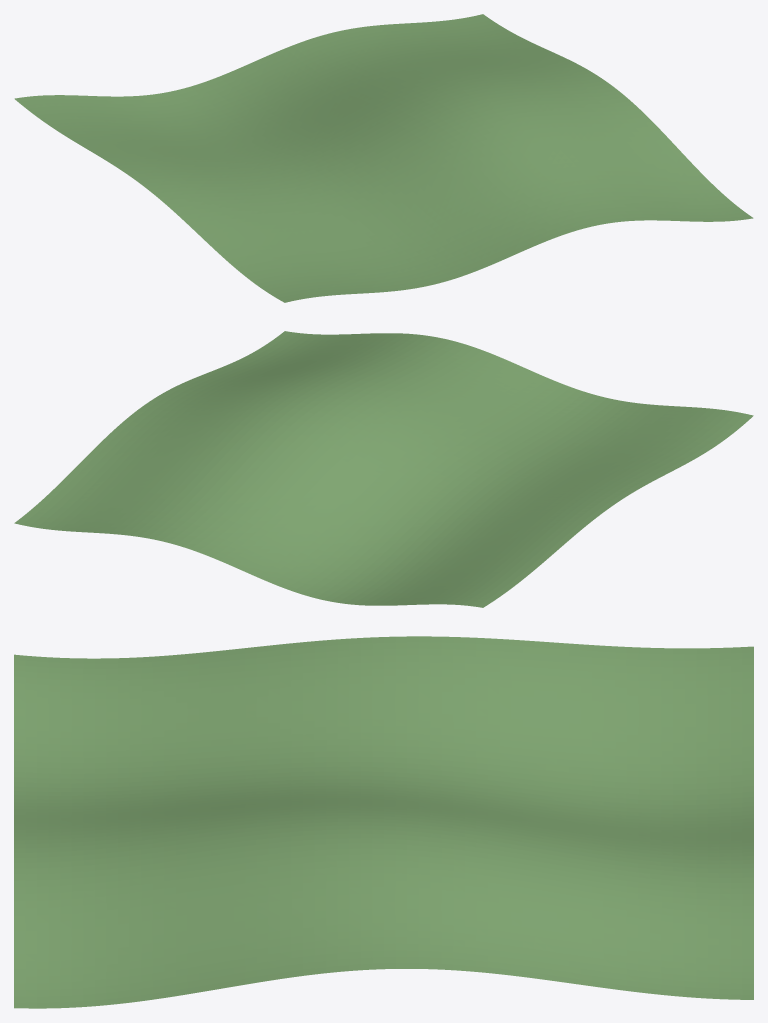
Rendered from terrain_32m.glb.
3 views of the same model, one above another, from view 1: azimuth 30°, elevation 25°; view 2: azimuth 150°, elevation 25°; view 3: azimuth 270°, elevation 25° (orthographic). The views are drawn at different scales.
Visible parts, largest first — view 1: world; view 2: world; view 3: world.
Part boxes in pixels (x1,y1,x2,y2): world: [14, 14, 753, 302]; world: [14, 331, 753, 607]; world: [14, 636, 753, 1008].
Bounding box in the file's own units: 32 × 3.46 × 32.
